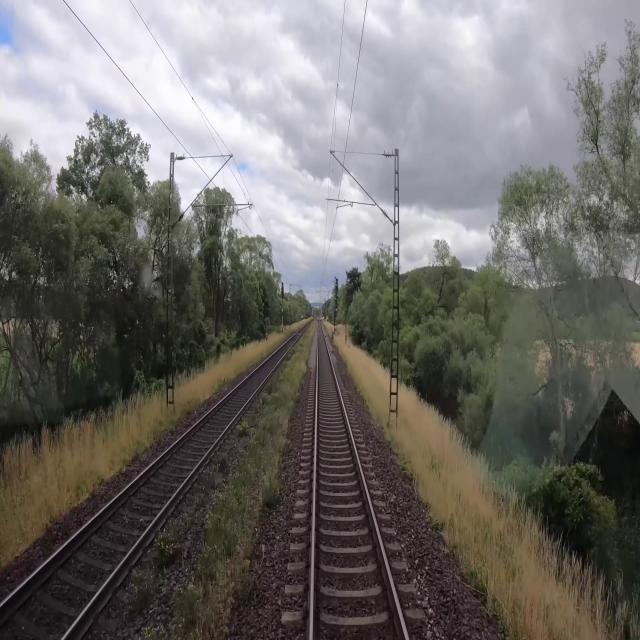Plant: (144, 318, 318, 639), (108, 569, 158, 628), (154, 524, 184, 591)
